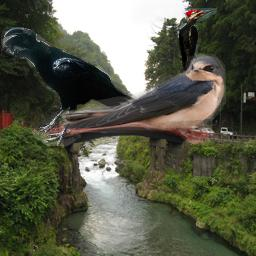Crow: (1, 27, 138, 146)
Swallow: (60, 53, 226, 144)
Woodpecker: (174, 8, 217, 75)
